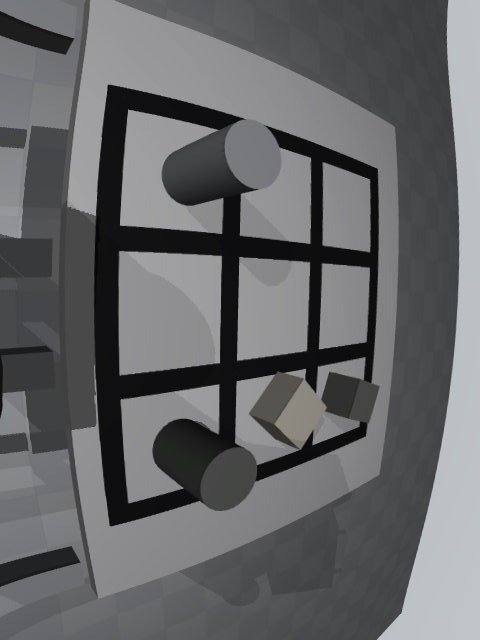can: (161, 119, 282, 206)
cube: (321, 371, 380, 424)
cylinder: (152, 419, 257, 511)
foam: (249, 371, 327, 450)
